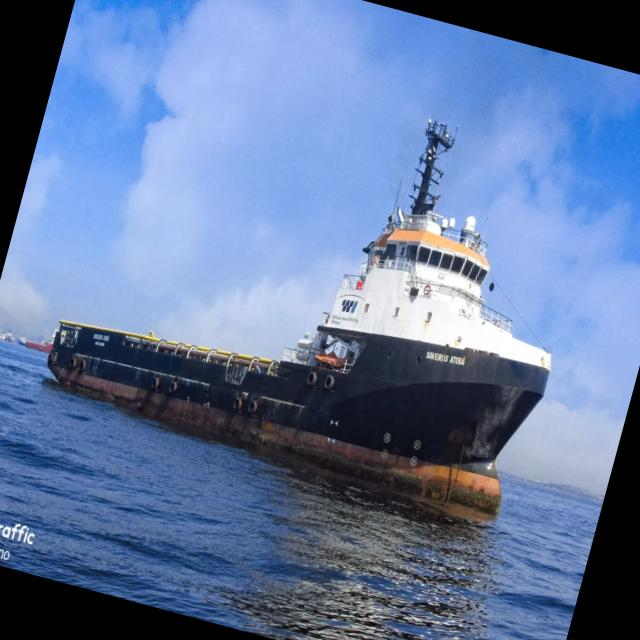Offshore: (47, 121, 550, 514)
